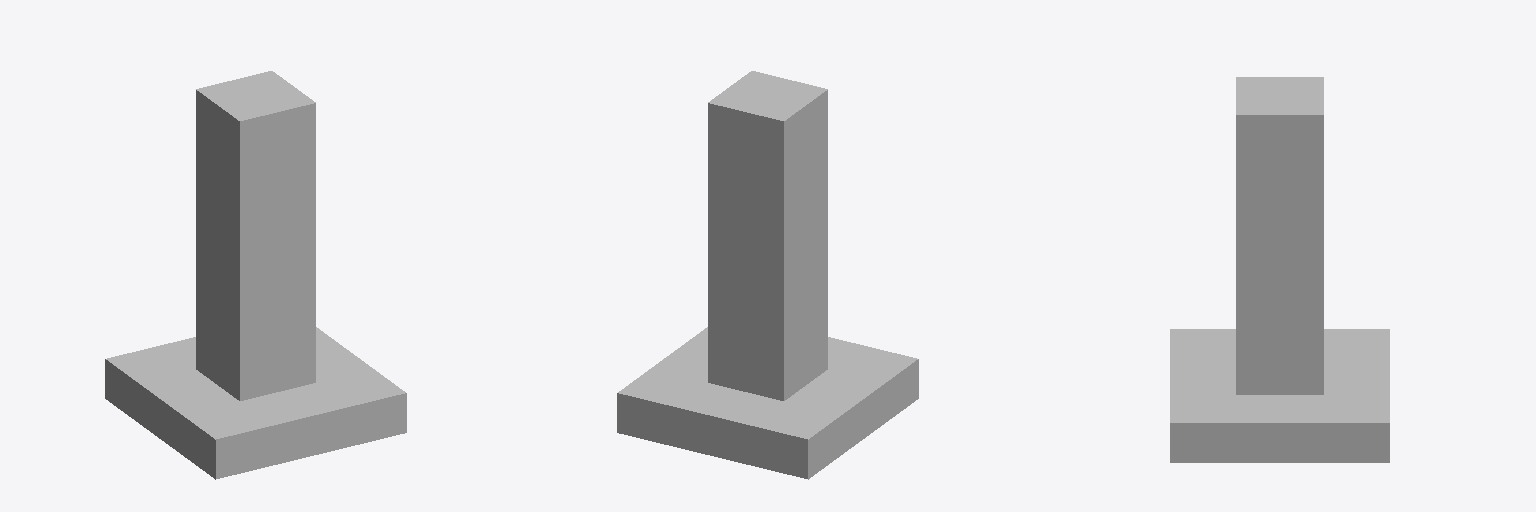
Rendered from metal_press_piston.obj.
The picture shows the model from 3 angles: view 1: azimuth 30°, elevation 25°; view 2: azimuth 150°, elevation 25°; view 3: azimuth 270°, elevation 25°; orthographic projection.
Parts seen in each view (by area): view 1: piston, shaft; view 2: piston, shaft; view 3: piston, shaft.
Part boxes in pixels (x1,y1,x2,y2): piston: (196, 71, 315, 400); shaft: (105, 327, 406, 479); piston: (708, 71, 827, 400); shaft: (617, 327, 918, 479); piston: (1236, 77, 1323, 394); shaft: (1170, 329, 1389, 462).
Size of the model in its own units: 0.625 by 1 by 0.625.